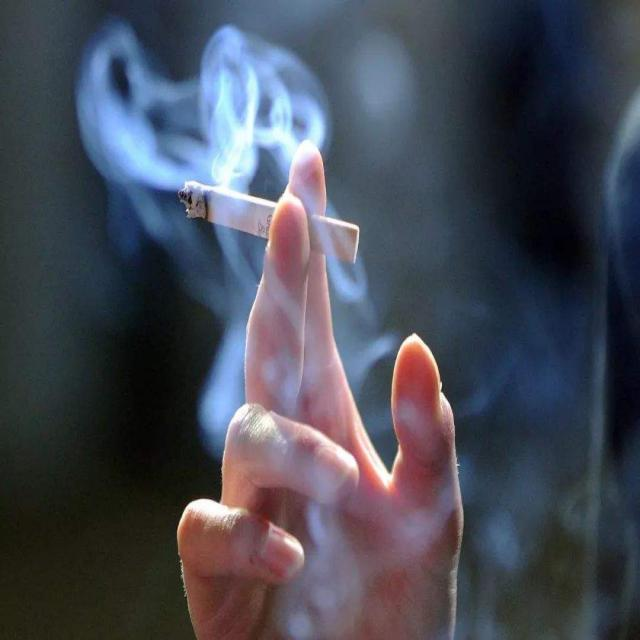smoke: (179, 170, 273, 243)
